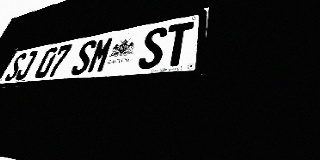0: (33, 47, 59, 79)
7: (45, 44, 73, 78)
J: (13, 50, 39, 81)
M: (86, 36, 115, 74)
S: (137, 26, 168, 70), (69, 39, 98, 76), (3, 52, 28, 82)
T: (161, 21, 194, 68)
